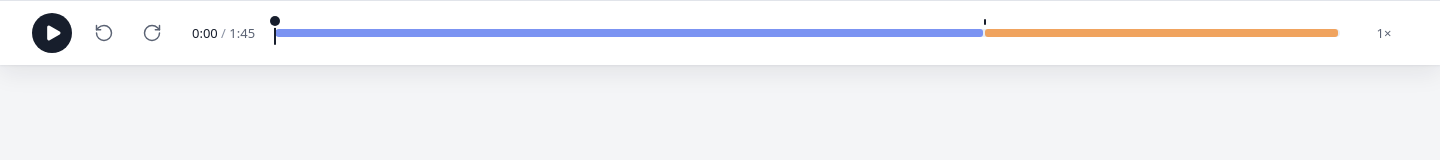
Test: PlayerBar › says when the audio is unavailable
This screenshot has width=1440, height=160.
What coordinates should you click on to do the following:
click the button named "Play"
I would click on:
 (52, 33)
Its box is [32,13,72,53].
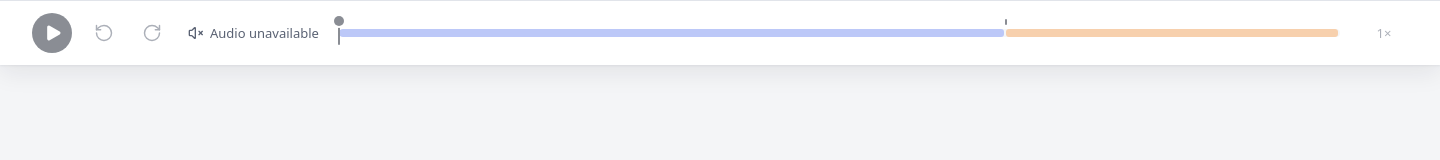
Expected: the button named "Play" is disabled, [32,13,72,53]
